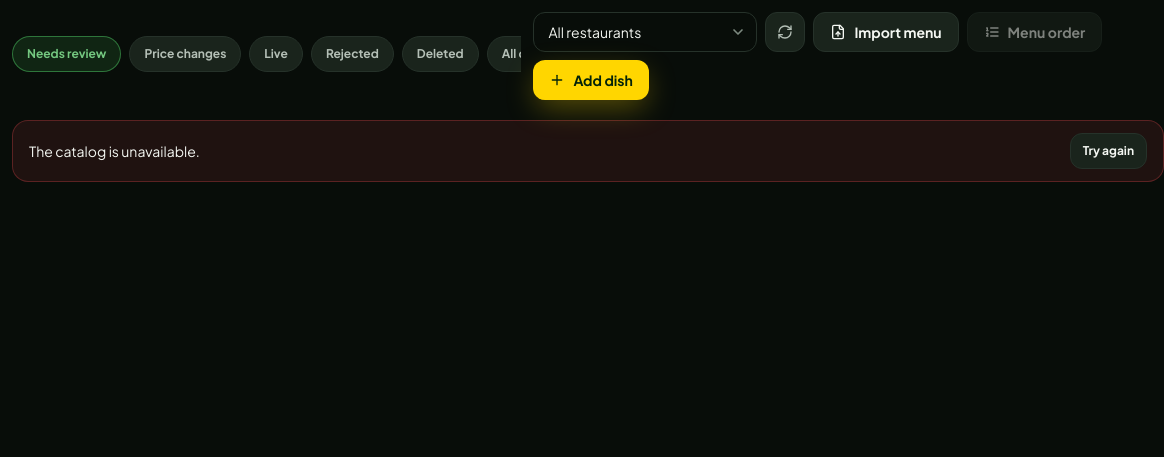
Scenario: CatalogPanel › shows the error in plain words, lets the admin retry, and passes the error up for logout handling
Check: the message "The catalog is unavailable. Try again" is shown, box [12,120,1163,182]
Step 1. Click the button "Try again" → (1108, 151), box [1070,133,1147,169]
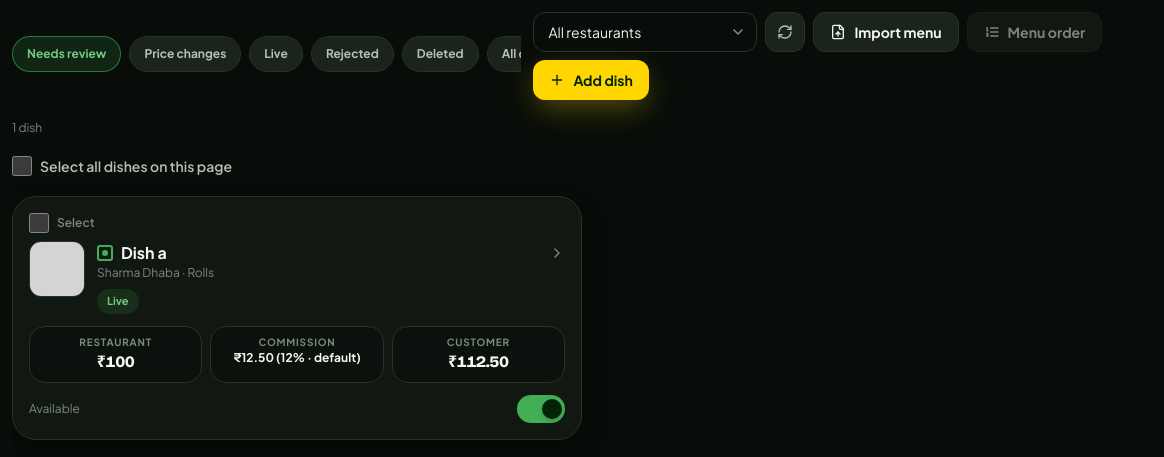
Check: the text "Dish a" is shown, box [121,241,167,265]
